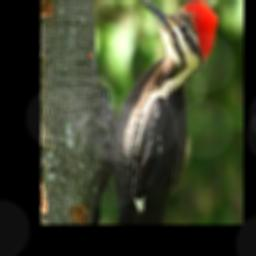Woodpecker: (92, 0, 217, 222)
